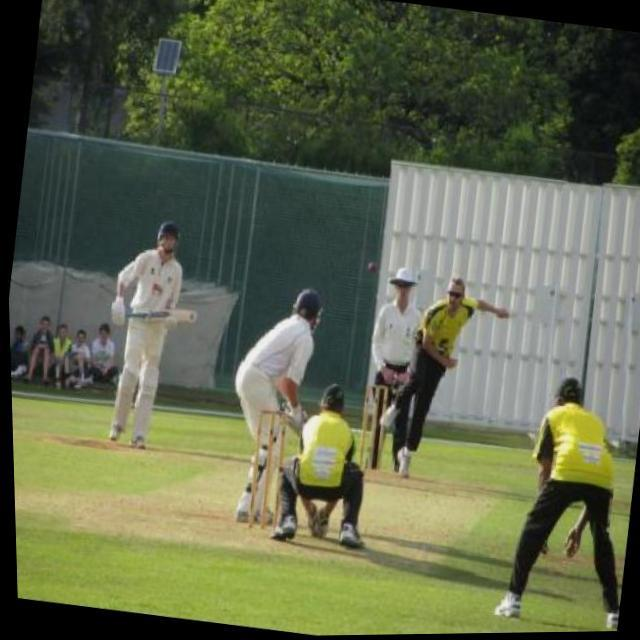-: (355, 251, 384, 288)
